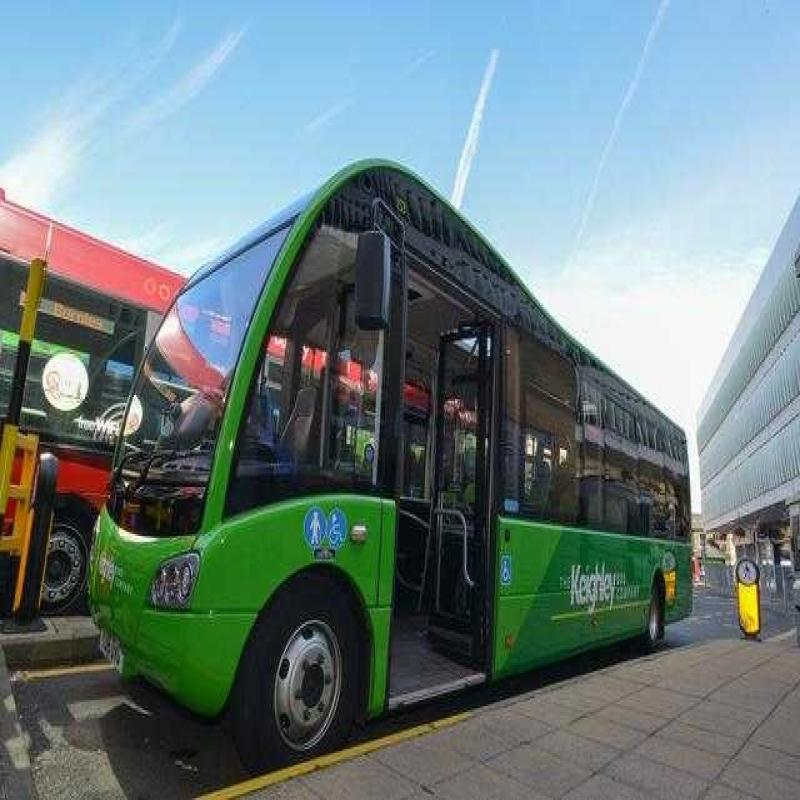bus: (115, 164, 704, 689)
